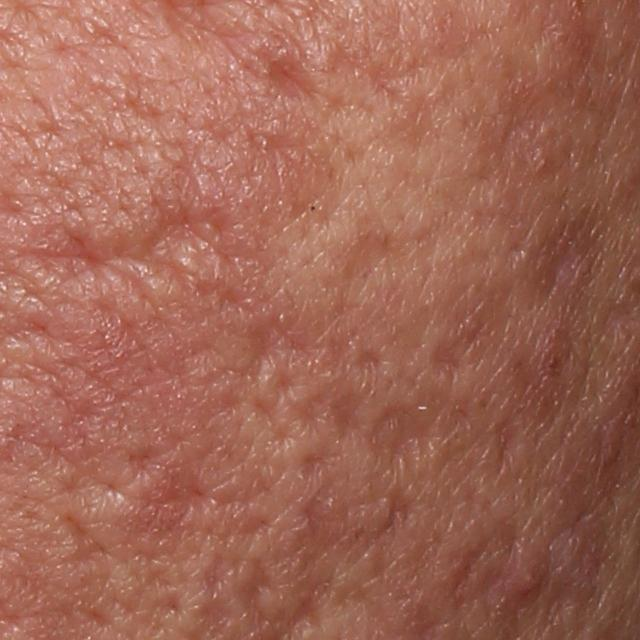atrophic_scar: (11, 188, 244, 309), (242, 317, 326, 388), (367, 405, 438, 478), (365, 482, 421, 563), (58, 501, 116, 578), (264, 46, 320, 114), (540, 239, 585, 301), (426, 333, 472, 387), (330, 391, 369, 443), (350, 342, 389, 380)
papule: (511, 540, 559, 600)
